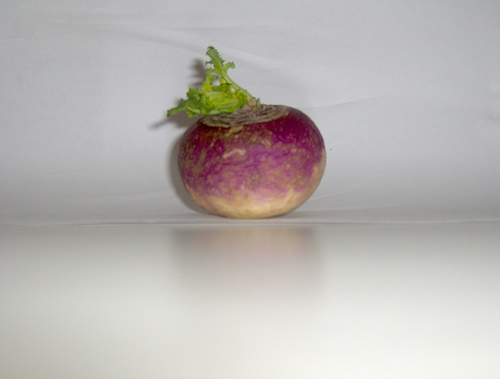turnip: (164, 45, 328, 222)
